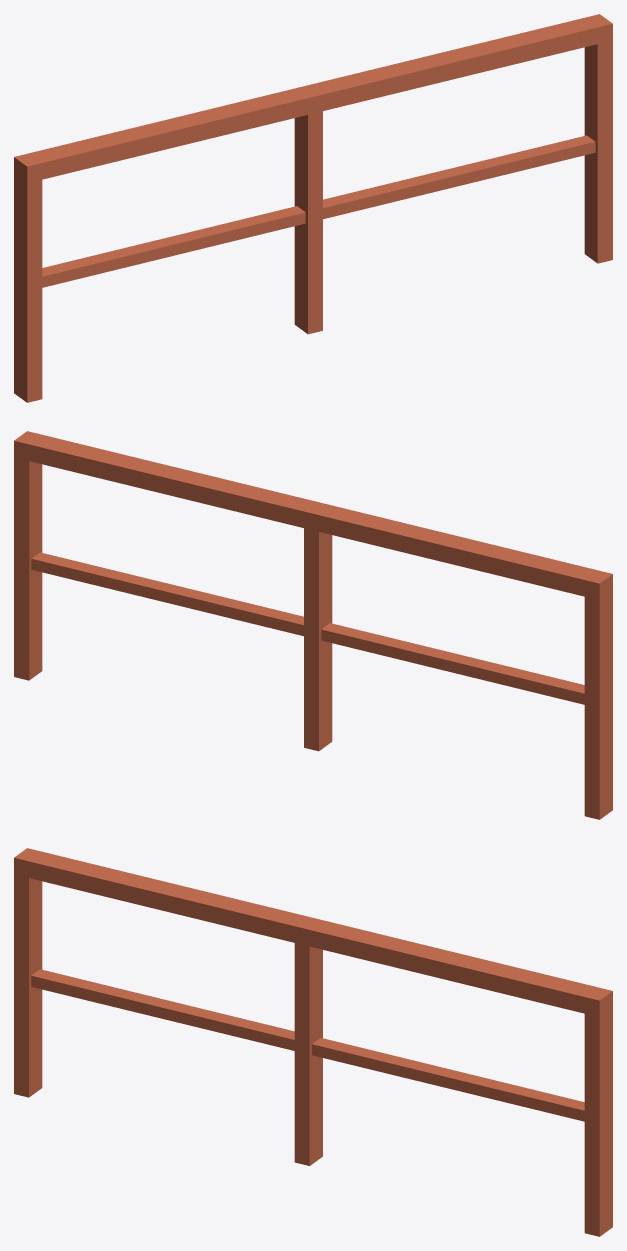
Rendered from Partitions_032.glb.
The picture shows the model from 3 angles, top to bottom: view 1: azimuth 30°, elevation 25°; view 2: azimuth 150°, elevation 25°; view 3: azimuth 330°, elevation 25°; orthographic projection.
Visible parts, largest first — view 1: Partitions_032; view 2: Partitions_032; view 3: Partitions_032.
Part boxes in pixels (box(x1,y1,x2,y2)): Partitions_032: box(14, 14, 612, 402); Partitions_032: box(14, 431, 612, 819); Partitions_032: box(14, 848, 612, 1236).
Size of the model in its own units: 2.03 by 0.781 by 0.0793.
Materials: 1 (1 with a texture image).
